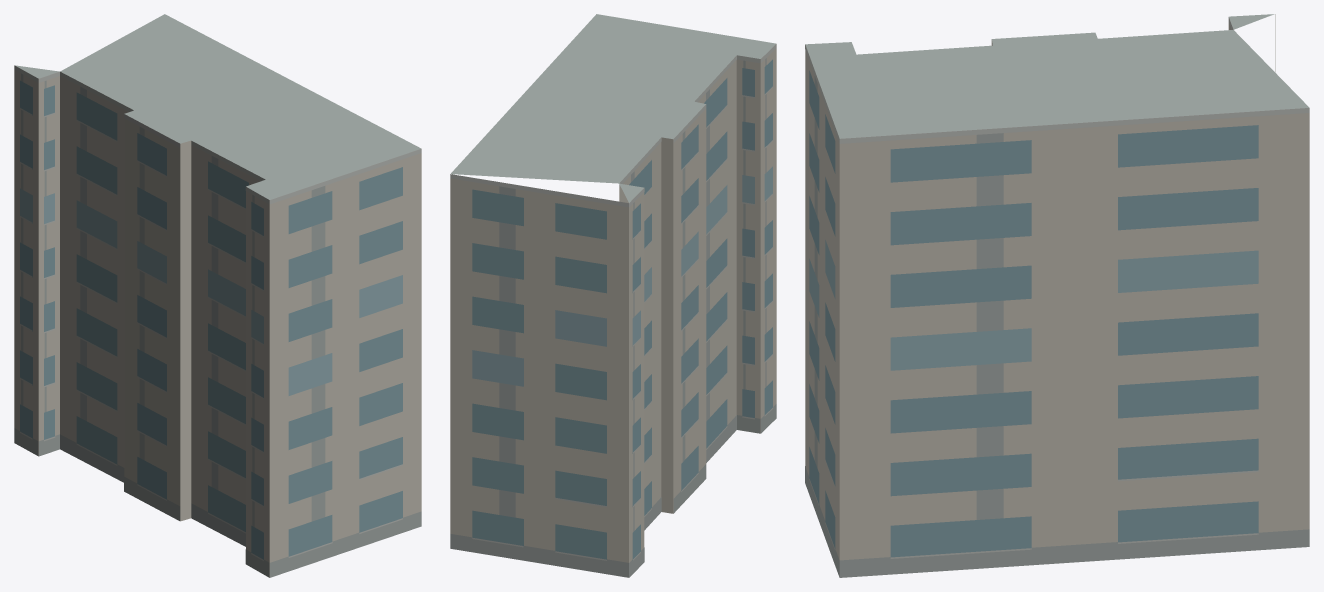
File: survey-upis-32627473.glb
The picture shows the model from 3 angles, left to right: view 1: azimuth 30°, elevation 25°; view 2: azimuth 150°, elevation 25°; view 3: azimuth 270°, elevation 25°; orthographic projection. The views are drawn at different scales.
Visible parts, largest first — view 1: survey-upis-32627473.tmp; view 2: survey-upis-32627473.tmp; view 3: survey-upis-32627473.tmp.
Boxes of the visible parts, x1=… form: survey-upis-32627473.tmp: x1=14, y1=14, x2=421, y2=577; survey-upis-32627473.tmp: x1=450, y1=14, x2=776, y2=577; survey-upis-32627473.tmp: x1=805, y1=14, x2=1309, y2=577.
Bounding box in the file's own units: 12.97 × 21.25 × 22.14.
